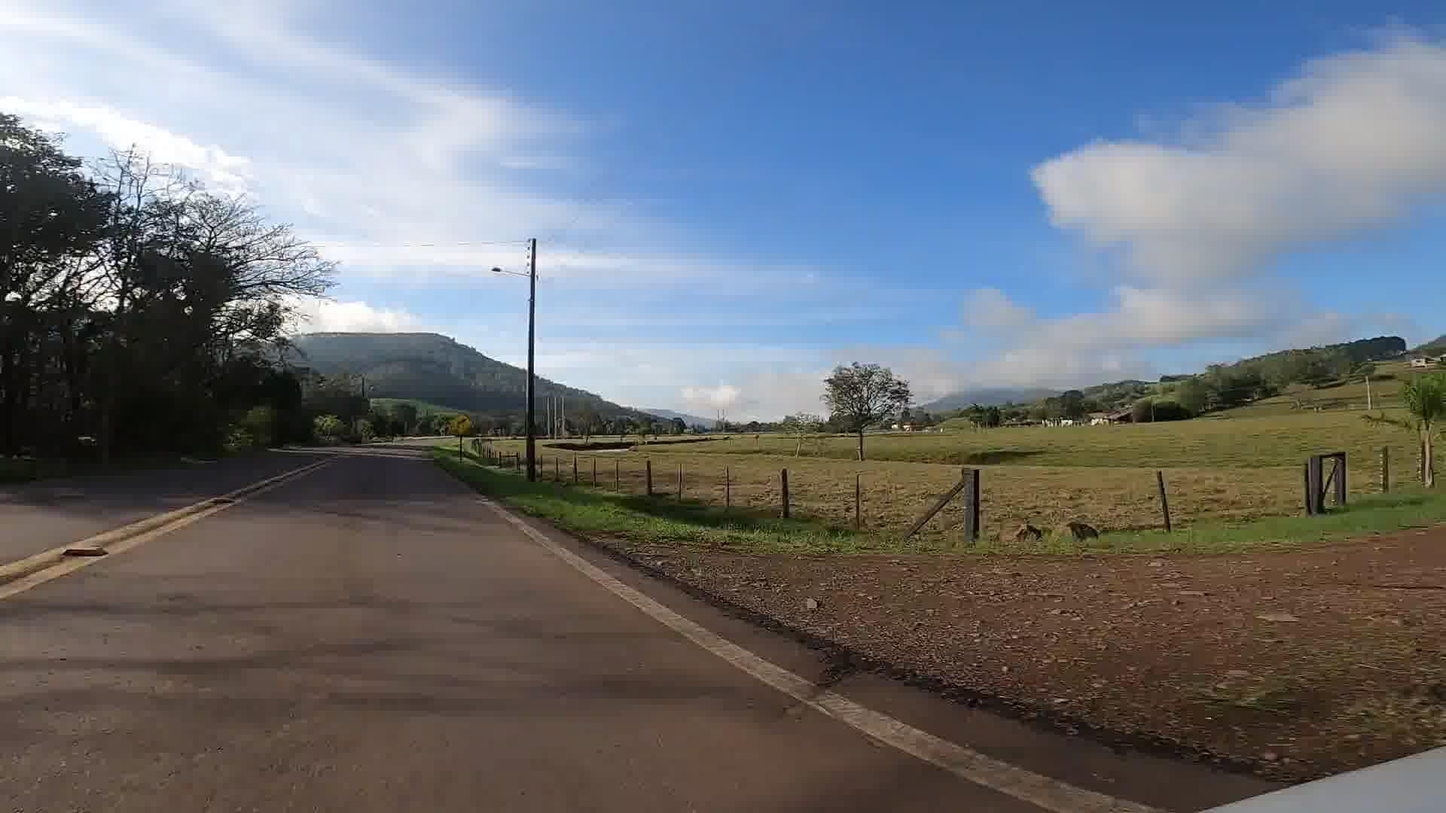A-2b: (449, 411, 473, 435)
